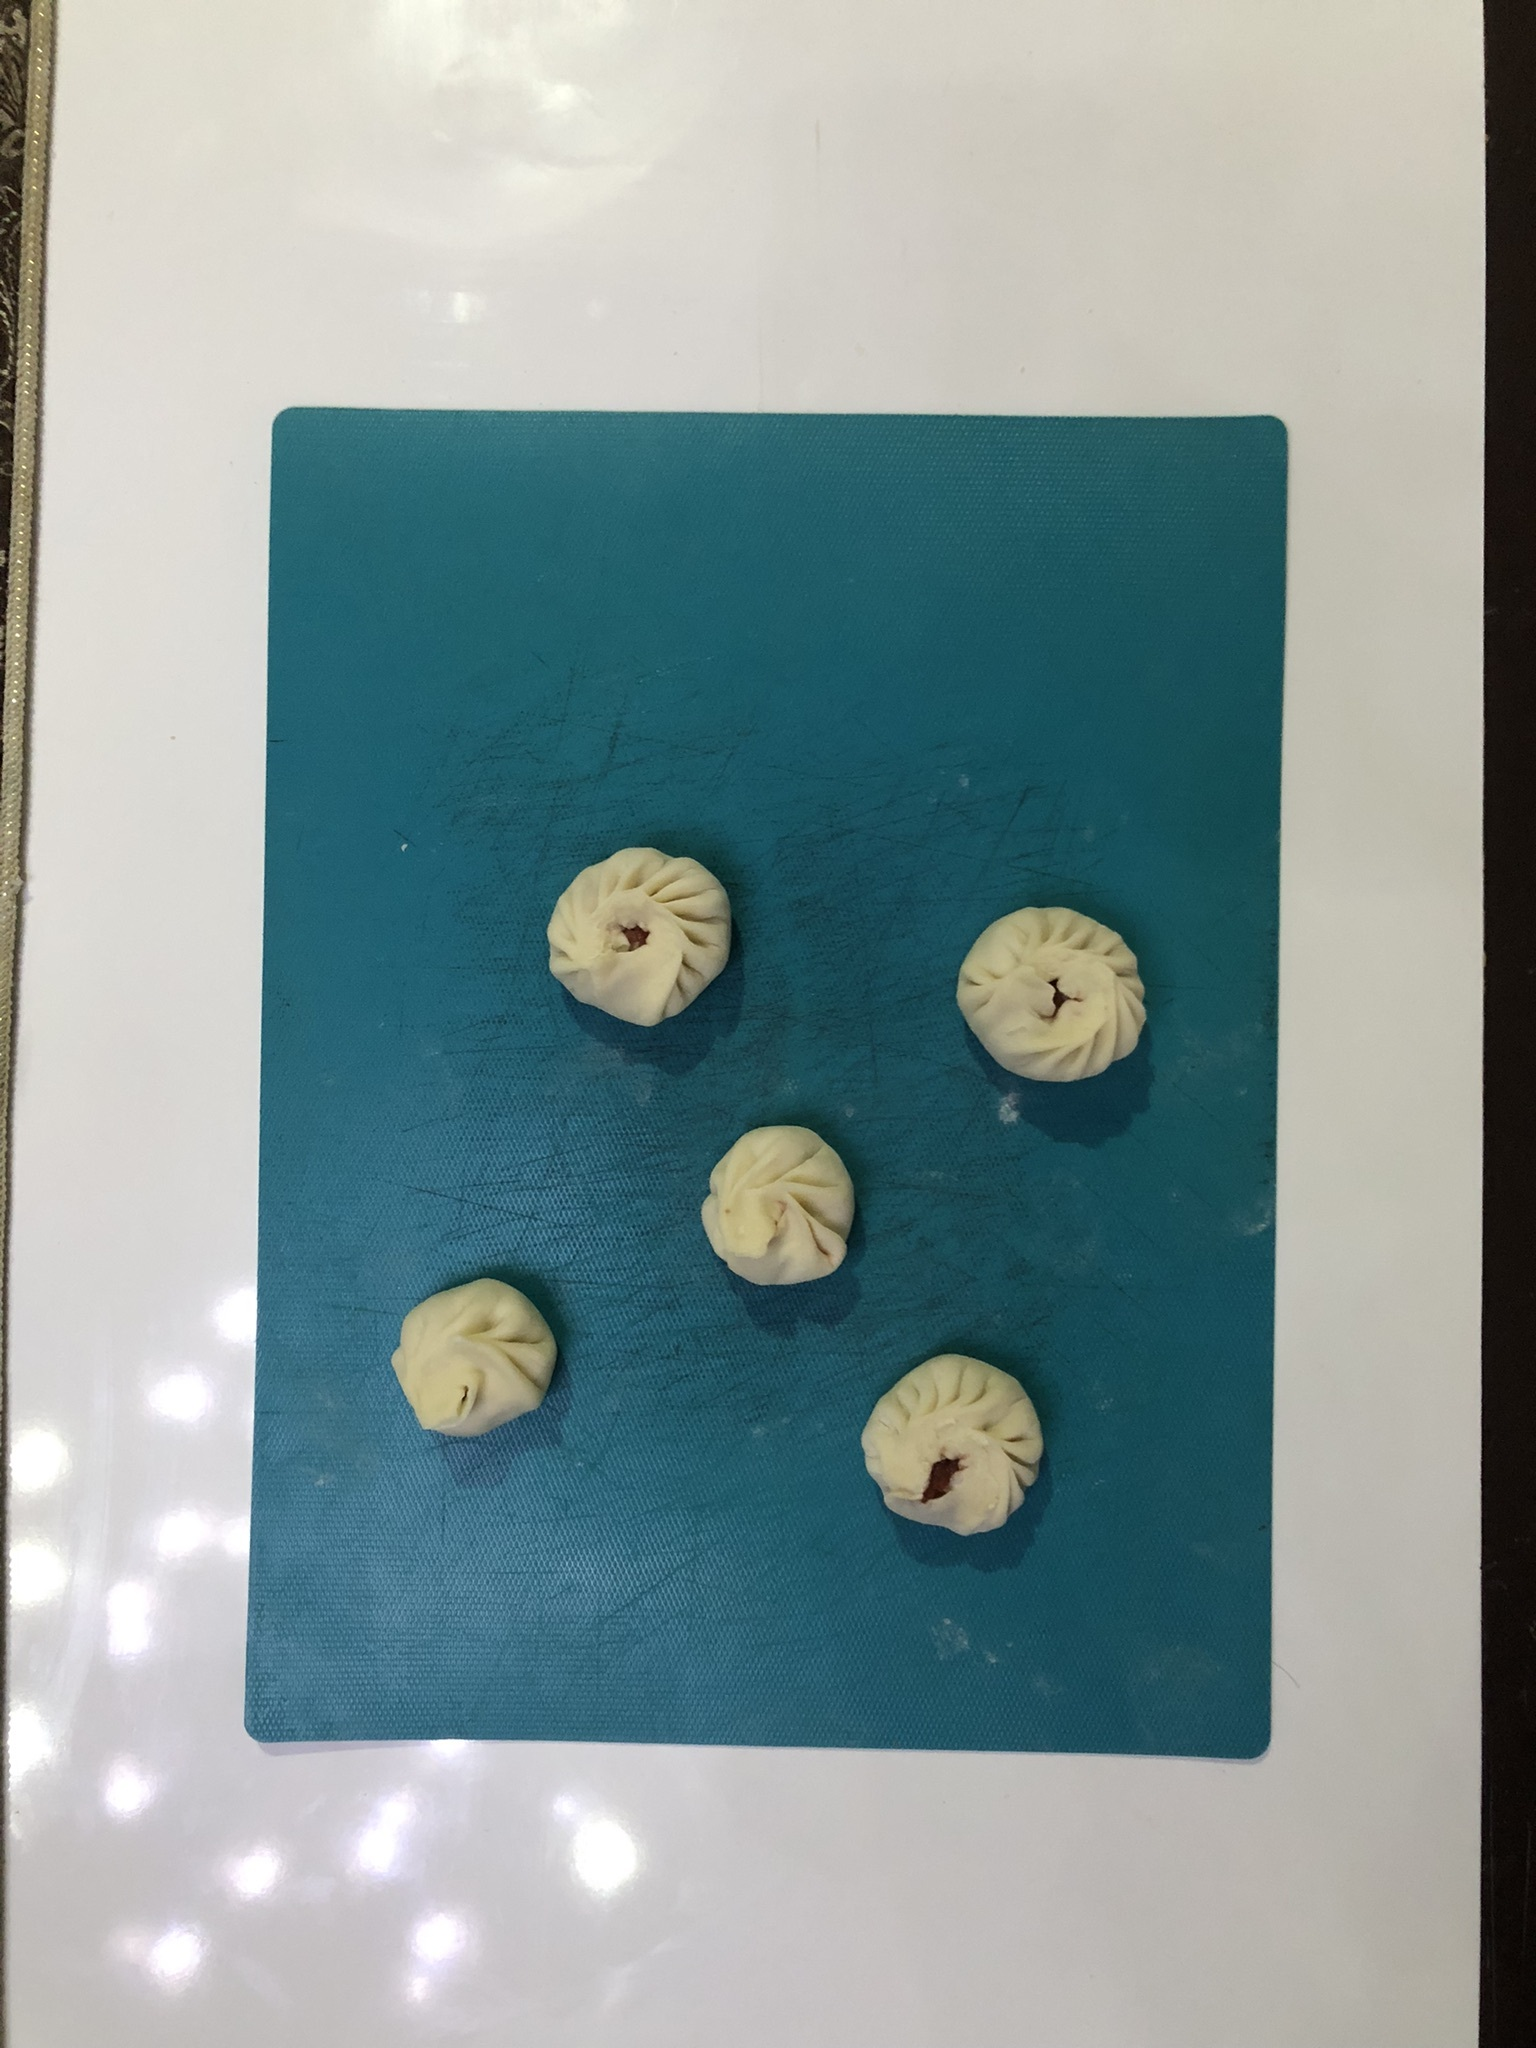buuz: (532, 834, 745, 1042), (942, 893, 1158, 1097), (849, 1342, 1057, 1550), (384, 1268, 578, 1451), (684, 1113, 862, 1293)
